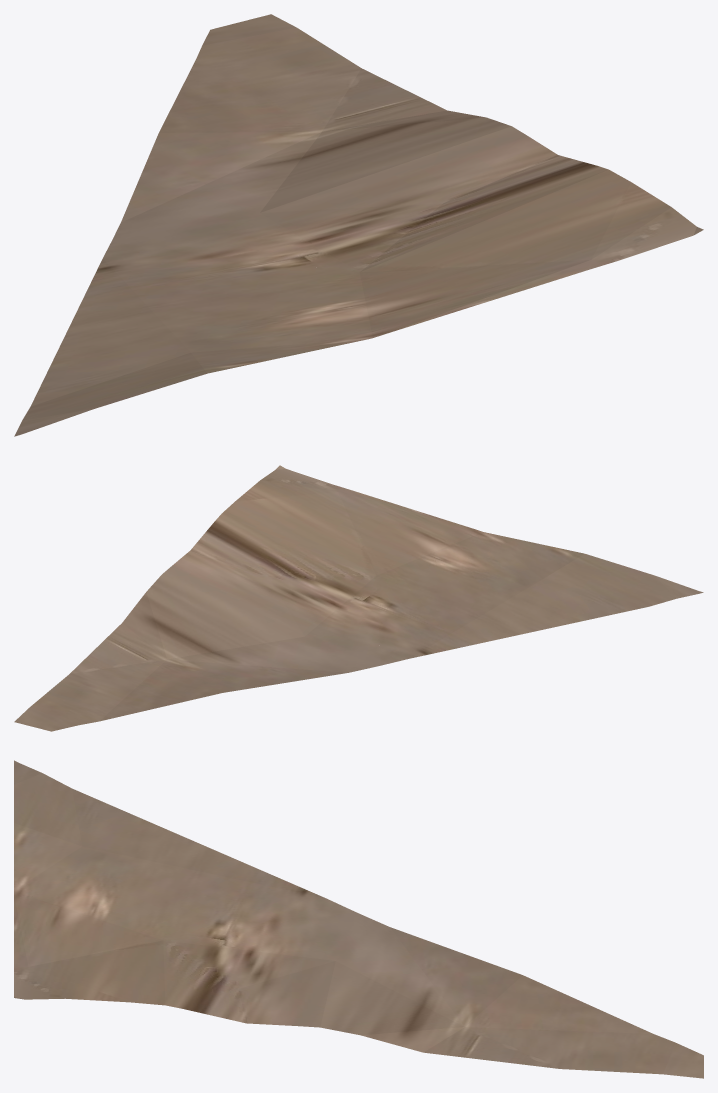
3 views of the same model, one above another, from view 1: azimuth 30°, elevation 25°; view 2: azimuth 150°, elevation 25°; view 3: azimuth 270°, elevation 25° (orthographic). The views are drawn at different scales.
Size of the model in its own units: 1.92 by 0.2714 by 2.09.
Materials: 2 (2 with a texture image).
